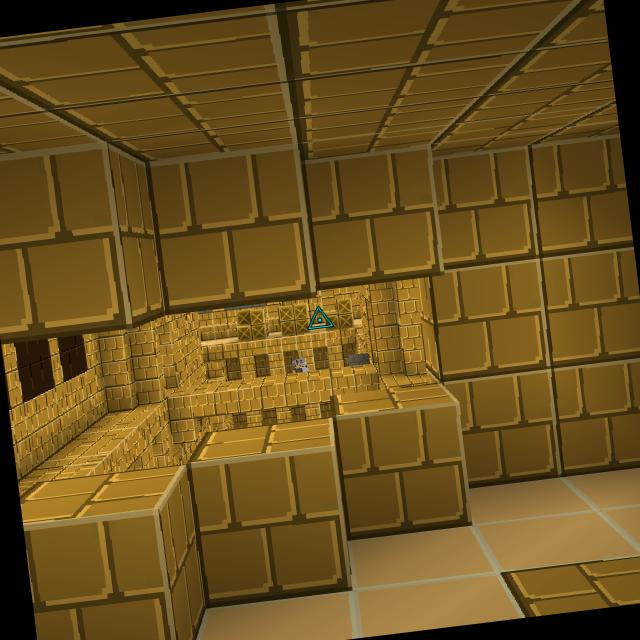enemy: (289, 356, 310, 374)
